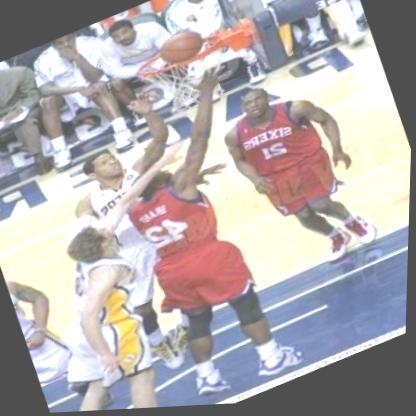basketball: (150, 19, 212, 75)
